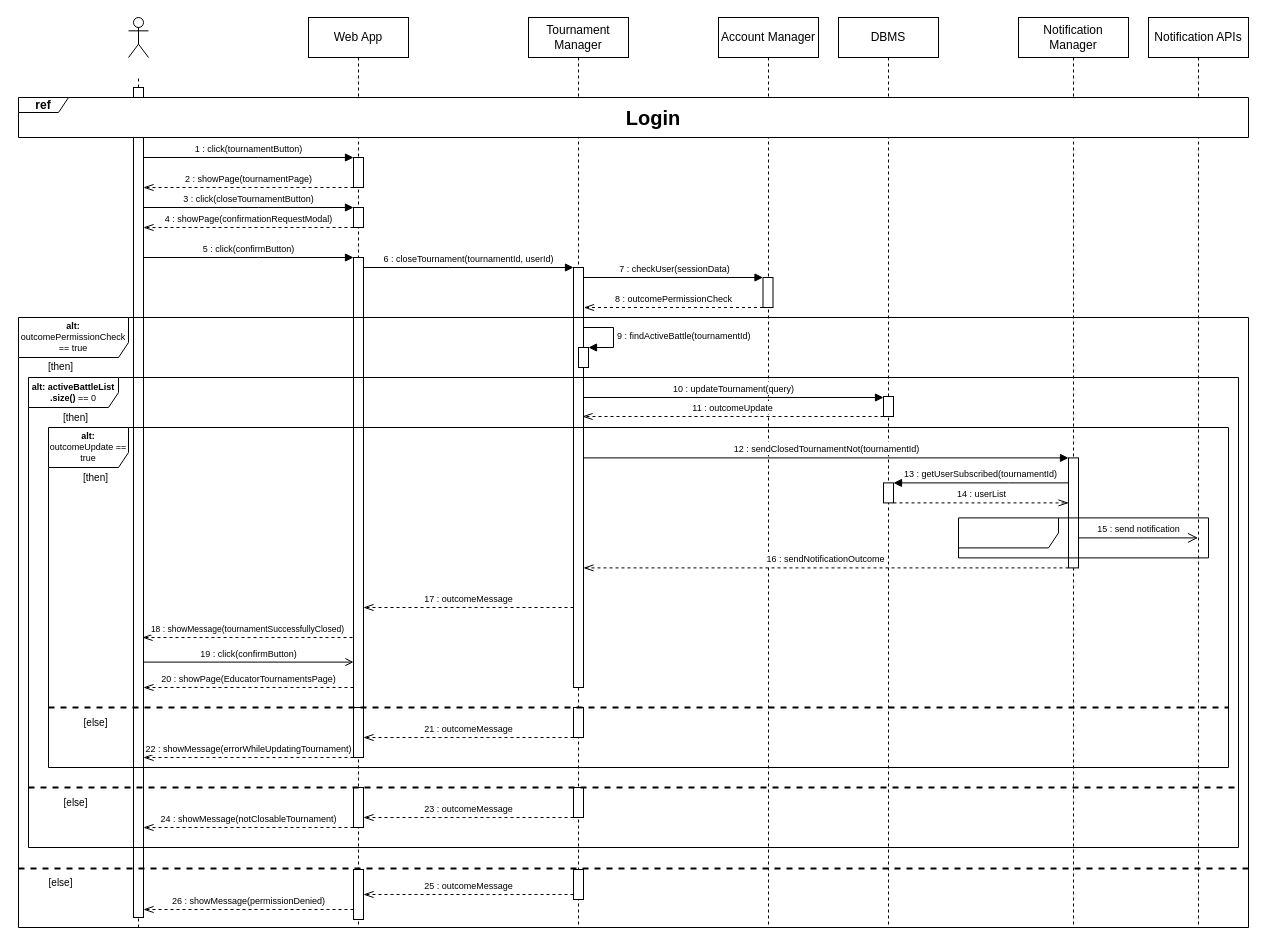
This 1267x946 diagram has some shape labels left out. The shapes that lost their labels are listed below. From the top down, each one's centre as x and y in pixels, then its label:
[138,37]: Educator
[1083,537]: loop foreach: user in userList
